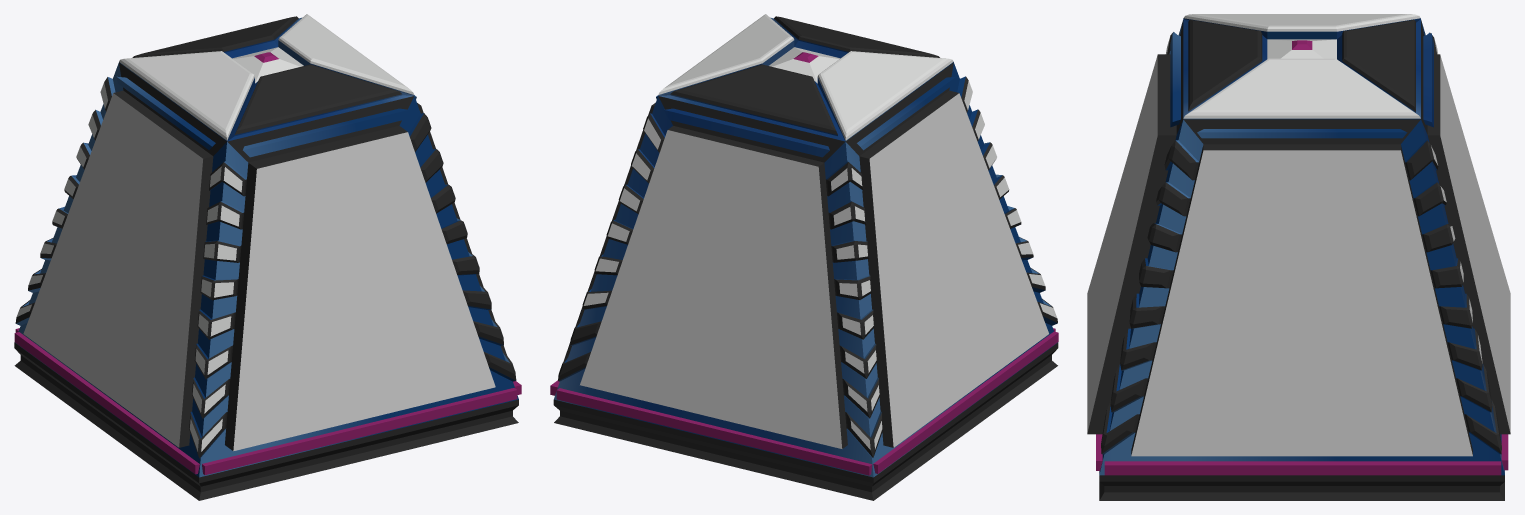
The model's file is PhasedArray_Large.fbx.
The picture shows the model from 3 angles, left to right: view 1: azimuth 30°, elevation 25°; view 2: azimuth 150°, elevation 25°; view 3: azimuth 270°, elevation 25°; orthographic projection. The views are drawn at different scales.
Parts seen in each view (by area): view 1: Cube.011, Cube.016; view 2: Cube.011, Cube.016; view 3: Cube.011, Cube.016.
Part boxes in pixels (x1,y1,x2,y2): Cube.011: [14, 14, 518, 500]; Cube.016: [14, 328, 521, 475]; Cube.011: [553, 14, 1058, 500]; Cube.016: [550, 328, 1058, 475]; Cube.011: [1087, 14, 1510, 500]; Cube.016: [1096, 434, 1508, 475].
Bounding box in the file's own units: 10.25 × 10.02 × 10.32.
